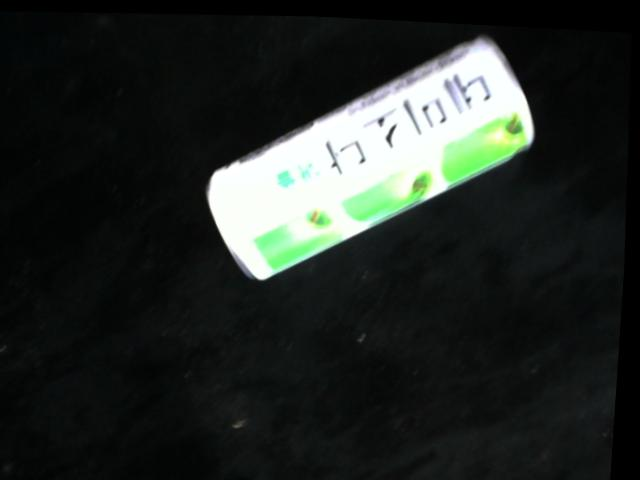can: (205, 26, 539, 279)
